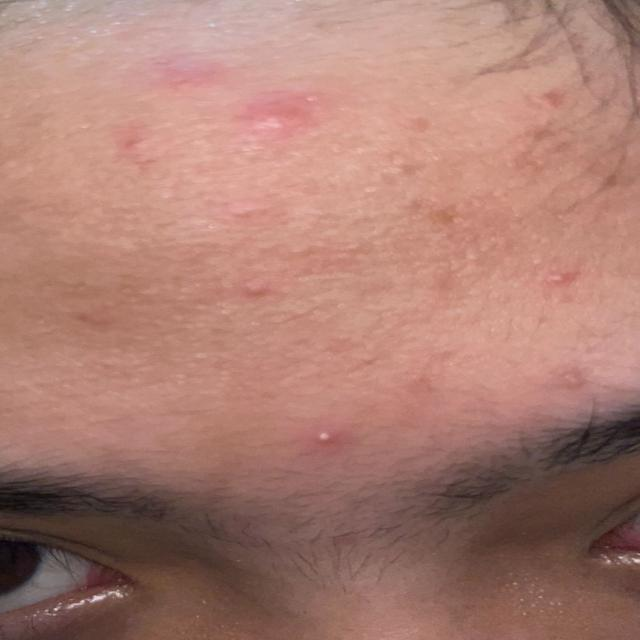papule: (66, 29, 376, 174)
